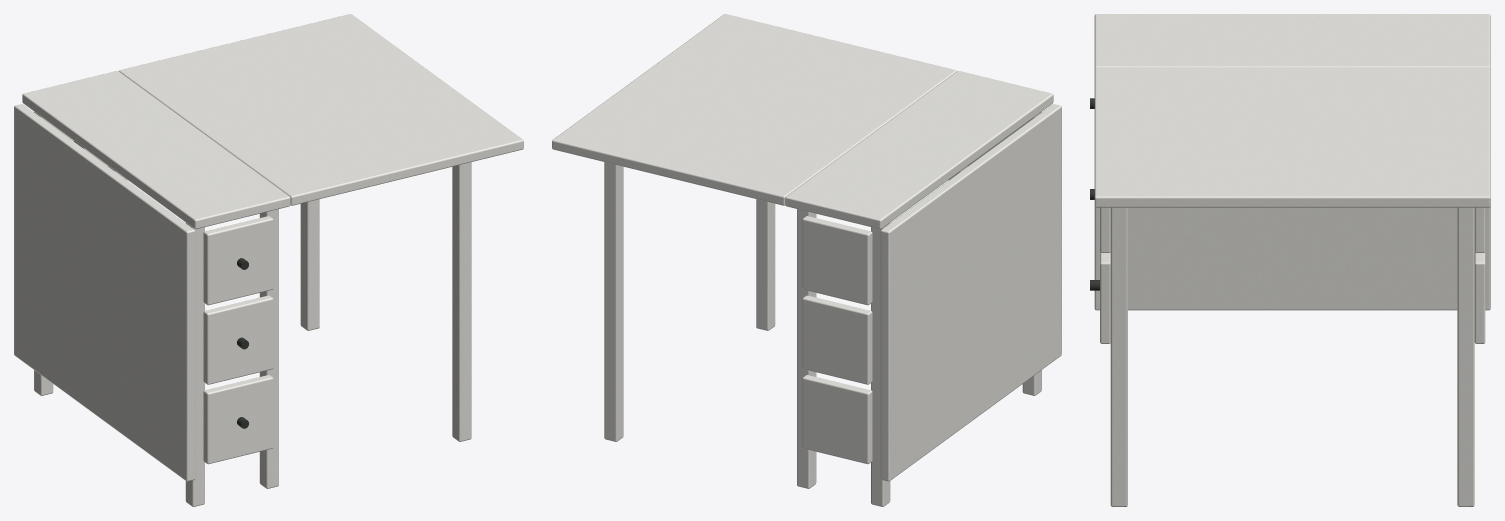
Rendered from norden-mobile.glb.
The picture shows the model from 3 angles, left to right: view 1: azimuth 30°, elevation 25°; view 2: azimuth 150°, elevation 25°; view 3: azimuth 270°, elevation 25°; orthographic projection. The views are drawn at different scales.
Parts seen in each view (by area): view 1: NORDEN Gateleg table, one leaf open; view 2: NORDEN Gateleg table, one leaf open; view 3: NORDEN Gateleg table, one leaf open.
Part boxes in pixels (x1,y1,x2,y2): NORDEN Gateleg table, one leaf open: [14, 14, 523, 506]; NORDEN Gateleg table, one leaf open: [552, 14, 1061, 506]; NORDEN Gateleg table, one leaf open: [1090, 14, 1490, 506].
Size of the model in its own units: 0.89 by 0.74 by 0.8.
2 materials, 2 textured.
